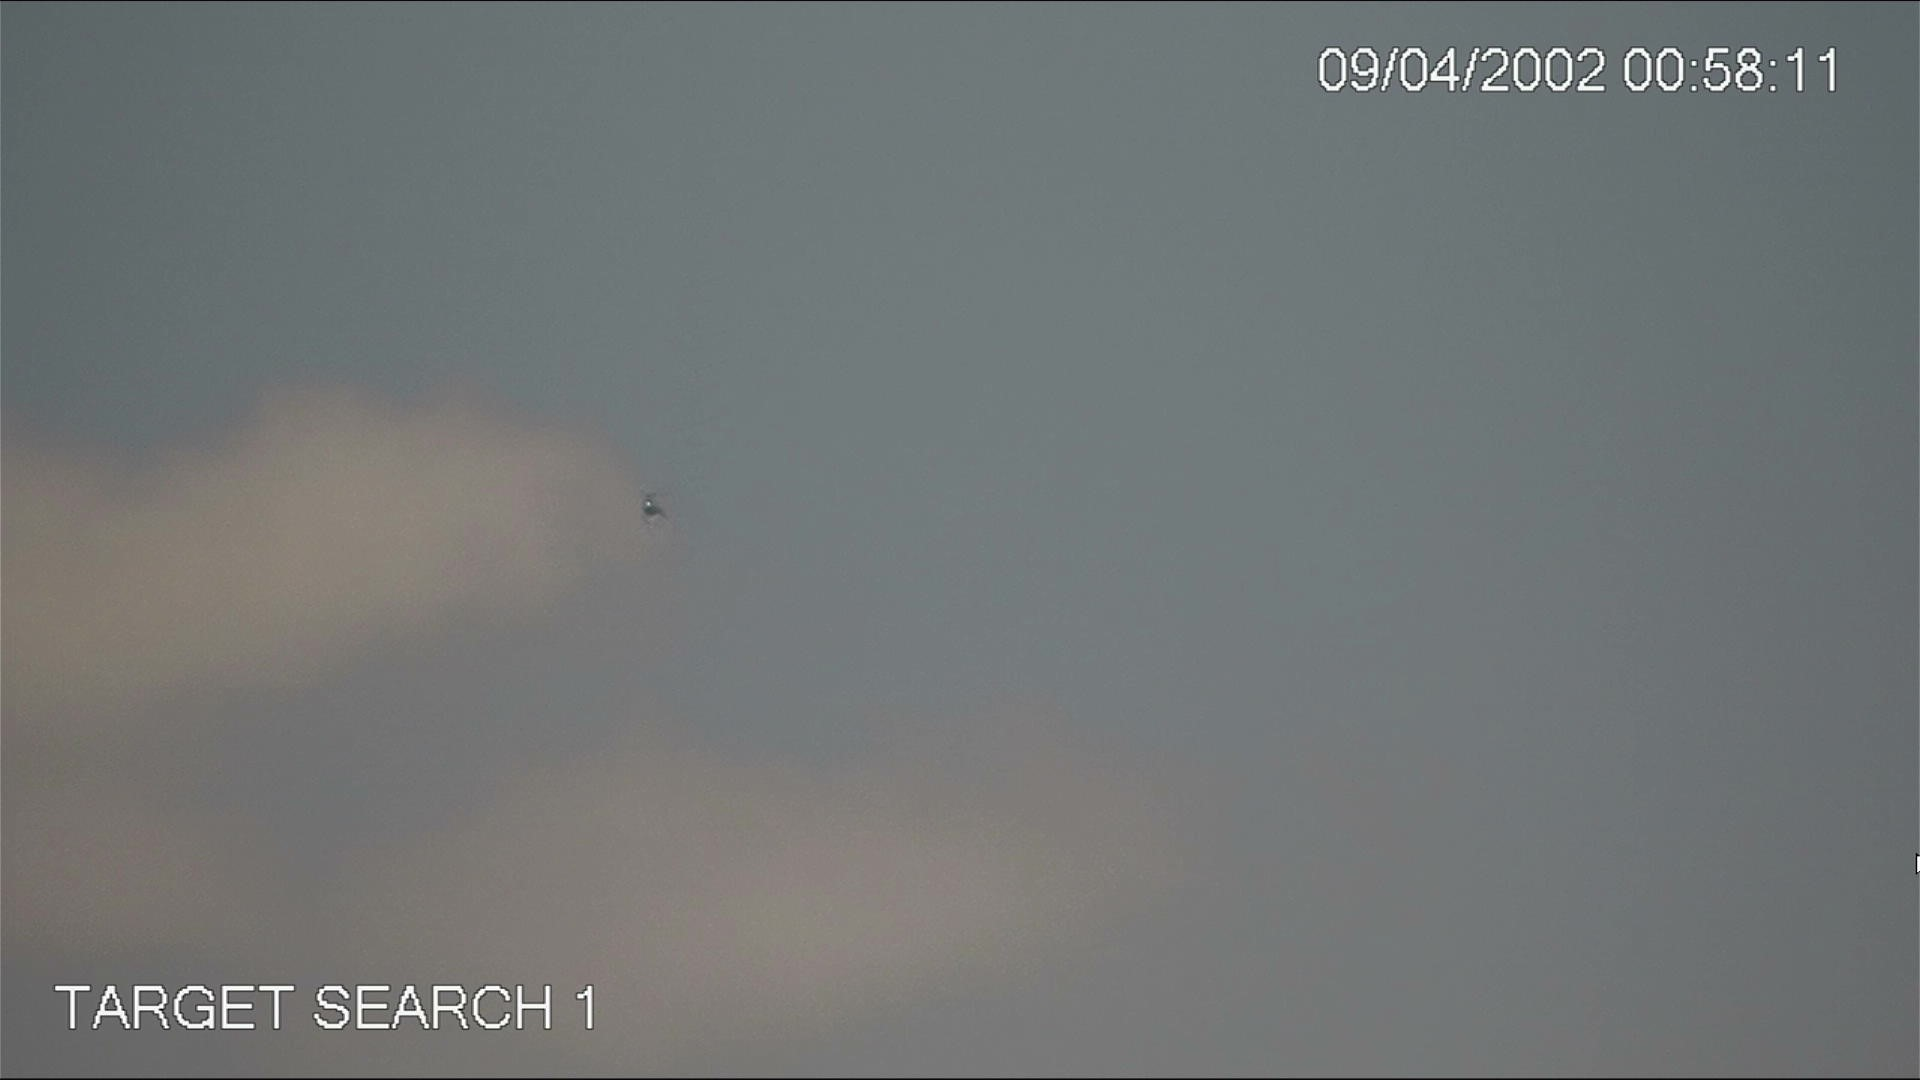SU_30: (637, 488, 663, 522)
